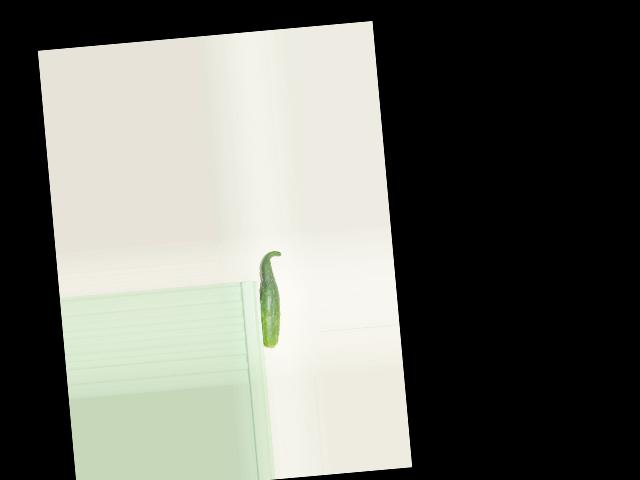cucumber: (255, 250, 289, 348)
